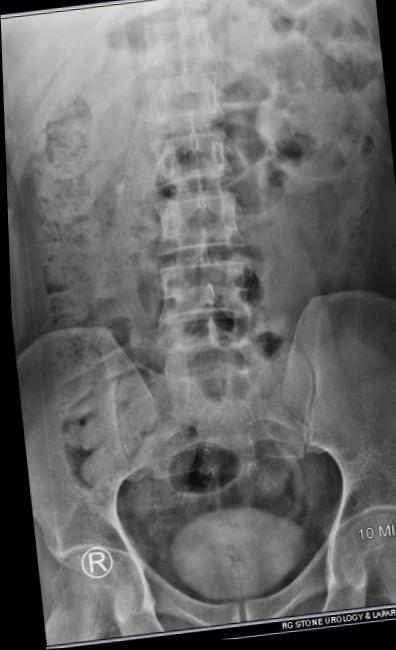bladder: (154, 497, 314, 616)
vertebrae: (135, 69, 222, 137)
